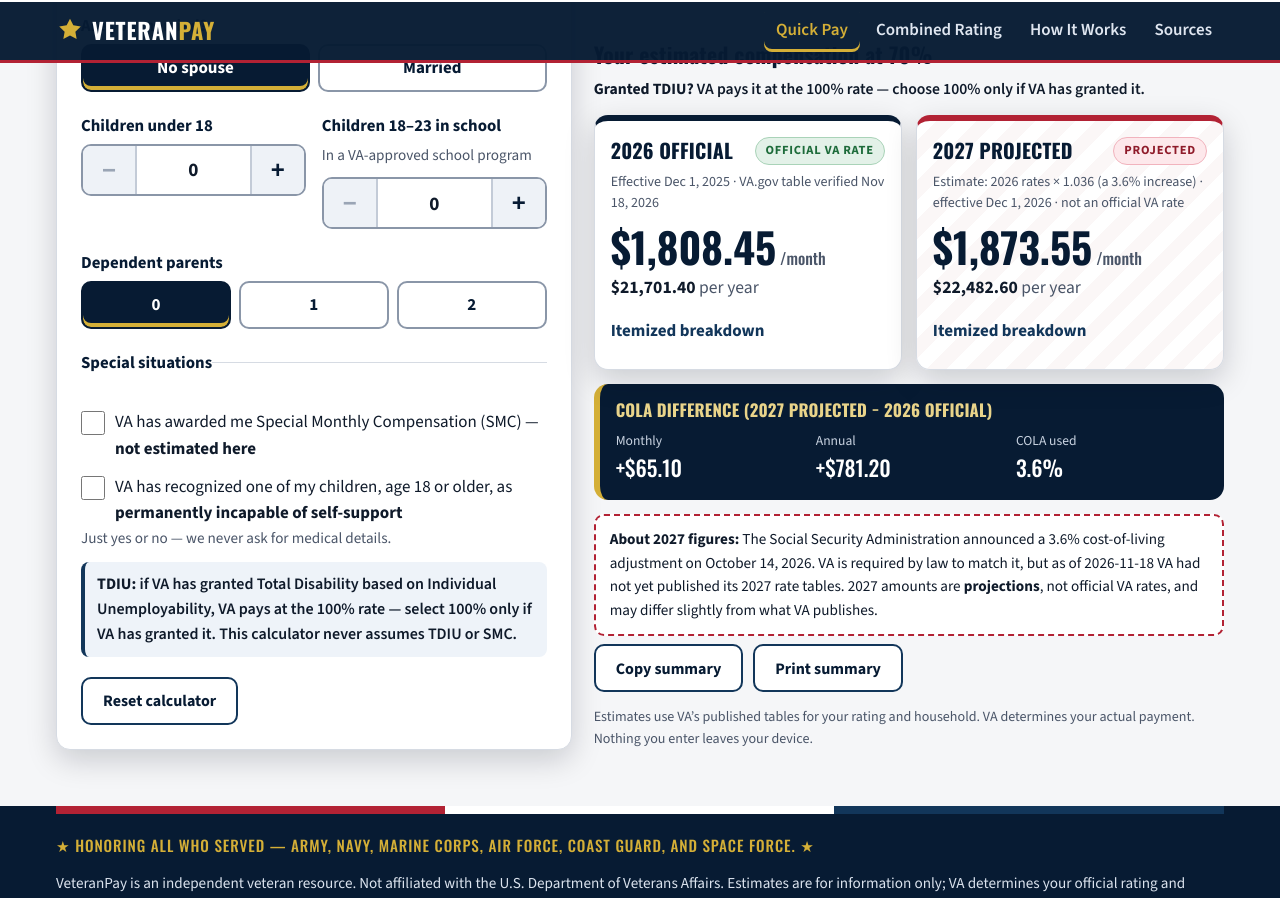
Test: App › adult child permanently incapable of self-support: yes/no control, warning, no totals
(page scrolled)
Click the checkbox named "permanently incapable of self-support": (93, 488) [81,476,105,500]
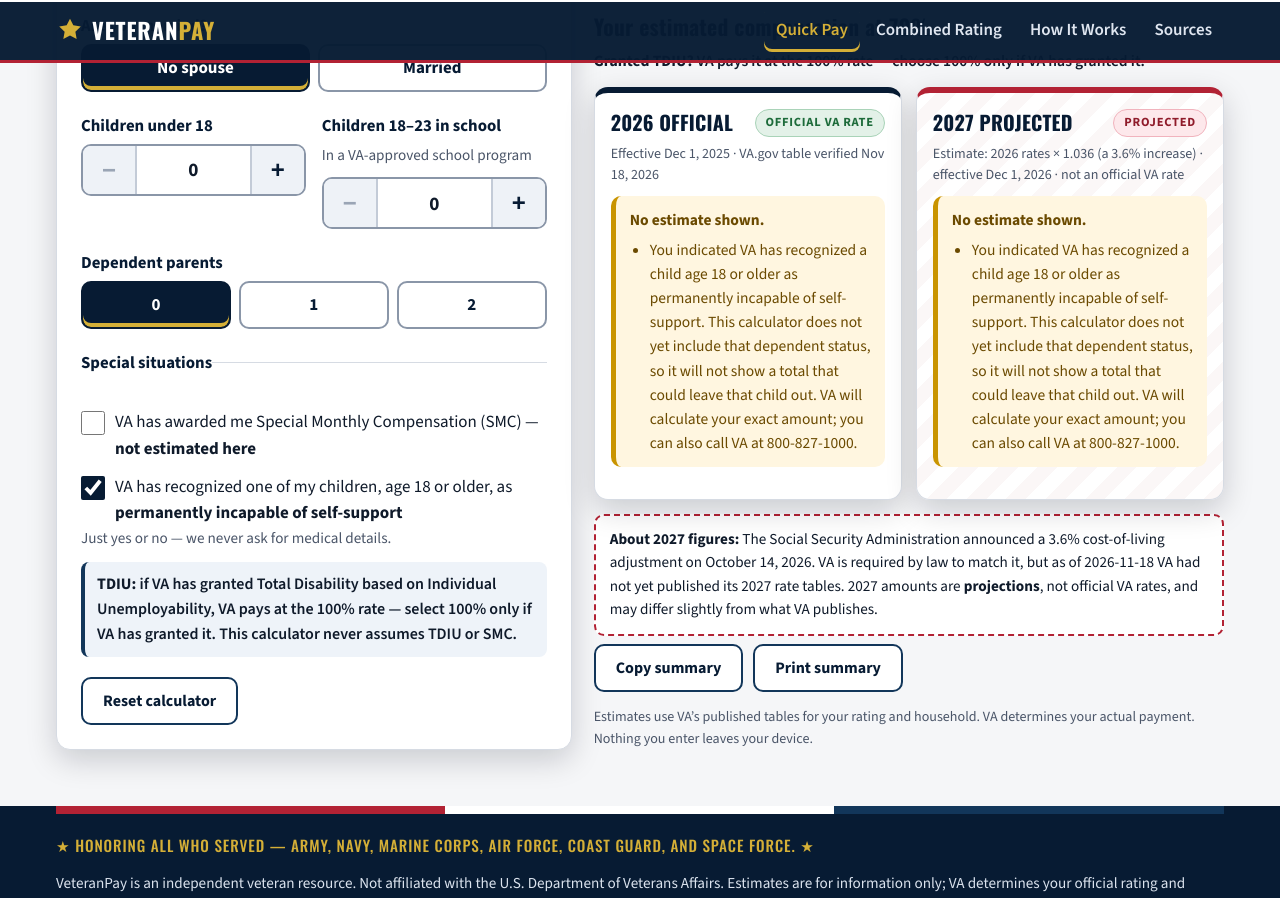
Now the text "No estimate shown." is shown 2 times, box [630,209,764,230]; [952,209,1086,230]
Now the text "$1,808.45" is gone
Now the heading "COLA difference" is gone
